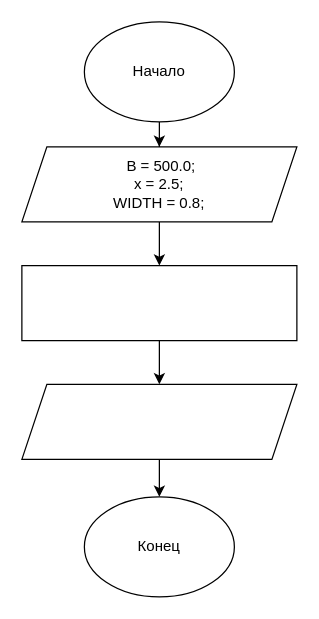
Some shapes in this 319 by 619 pixel diagram are drawn without their labels. The box of each missing label's shape, as (x1, y1, x2, y2) in pixels:
cost = B * x * WIDTH: (21, 264, 297, 341)
printf("Стоимость ткани: %.2f рублей\n", cost): (21, 383, 297, 459)
